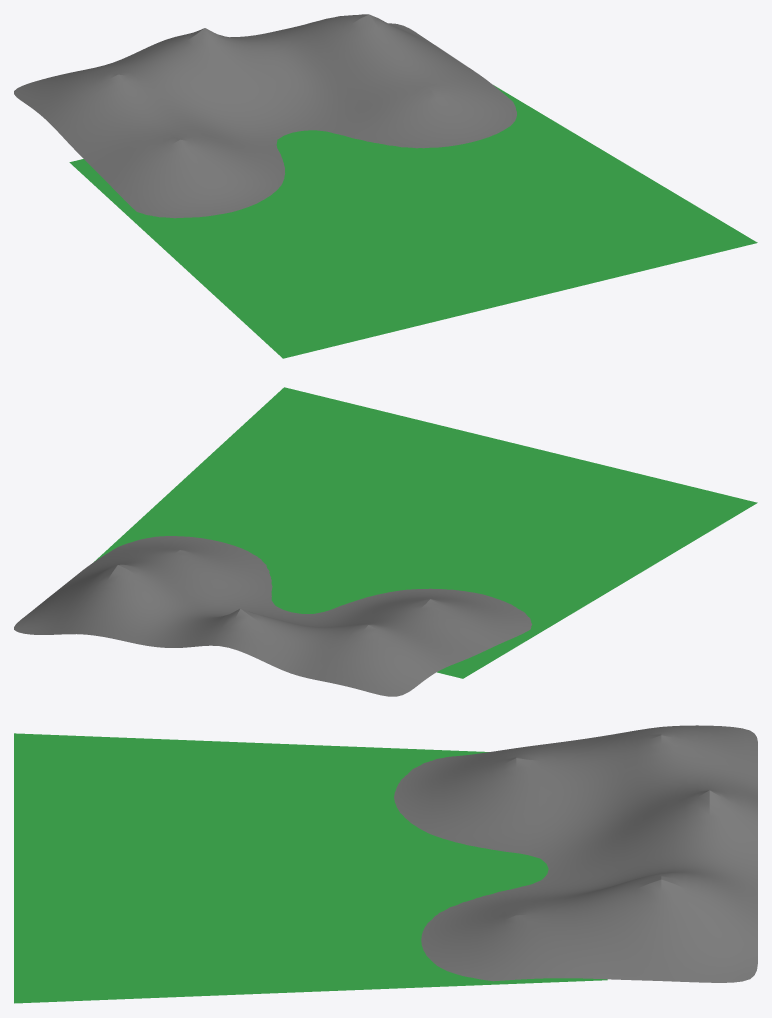
The model's file is Background.fbx.
3 views of the same model, one above another, from view 1: azimuth 30°, elevation 25°; view 2: azimuth 150°, elevation 25°; view 3: azimuth 270°, elevation 25° (orthographic). The views are drawn at different scales.
Parts seen in each view (by area): view 1: Plane, Plane.001; view 2: Plane, Plane.001; view 3: Plane, Plane.001.
Part boxes in pixels (x1,y1,x2,y2): Plane: (69, 85, 757, 358); Plane.001: (14, 14, 516, 218); Plane: (94, 387, 757, 678); Plane.001: (14, 536, 531, 696); Plane: (14, 733, 607, 1003); Plane.001: (394, 725, 757, 982).
Bounding box in the file's own units: 58090 × 7078 × 67620.
